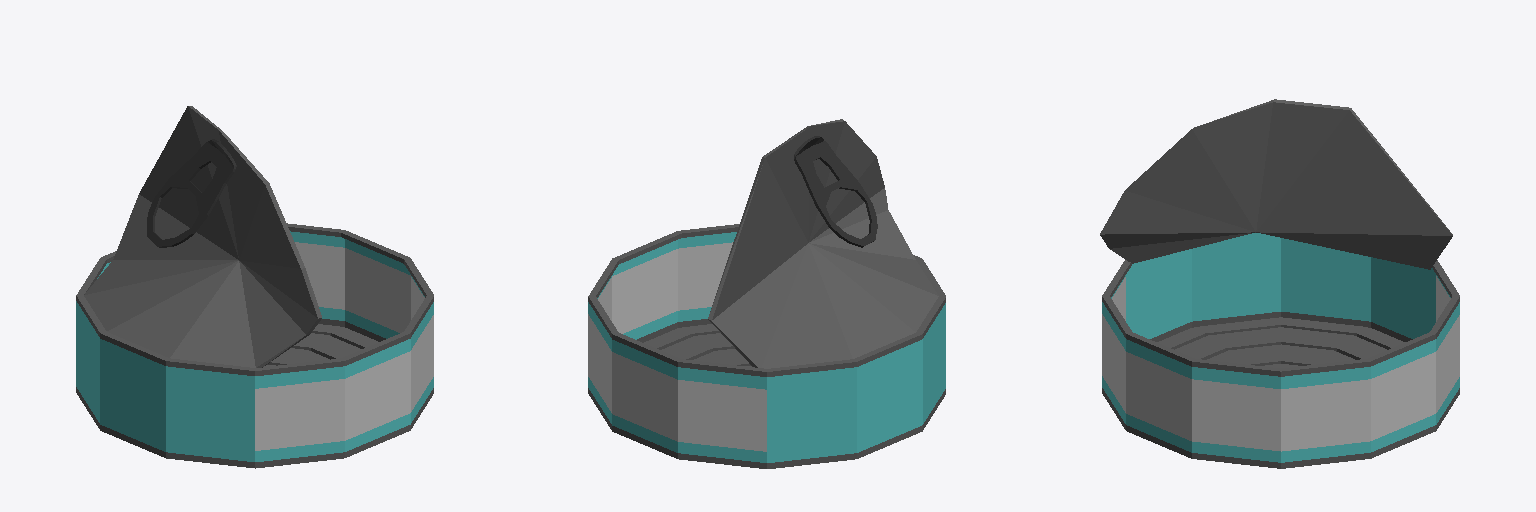
File: tunacan.obj
3 views of the same model, side by side, from view 1: azimuth 30°, elevation 25°; view 2: azimuth 150°, elevation 25°; view 3: azimuth 270°, elevation 25° (orthographic).
Parts seen in each view (by area): view 1: tunacan; view 2: tunacan; view 3: tunacan.
Part boxes in pixels (bbox=[...]): tunacan: bbox=[76, 106, 433, 468]; tunacan: bbox=[588, 119, 945, 468]; tunacan: bbox=[1100, 99, 1459, 468].
Bounding box in the file's own units: 4.07 × 3.44 × 4.09.